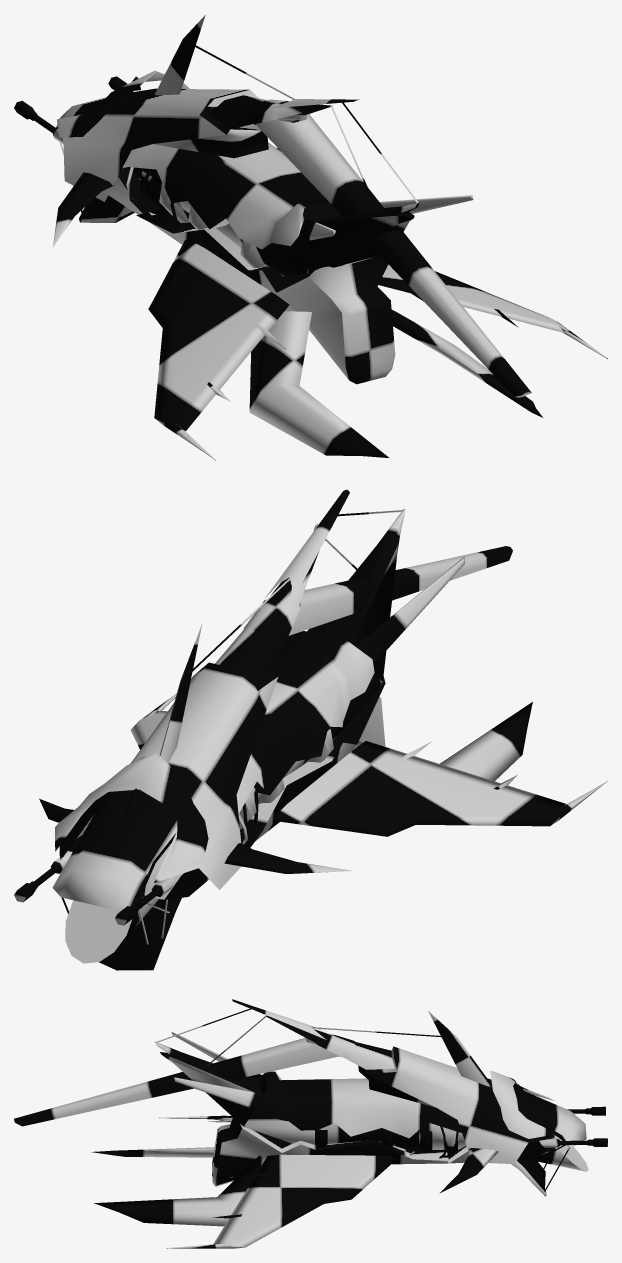
The model's file is interceptor.obj.
3 renders of one model, top to bottom at view 1: azimuth 30°, elevation 25°; view 2: azimuth 150°, elevation 25°; view 3: azimuth 270°, elevation 25°, orthographic. The views are drawn at different scales.
Parts seen in each view (by area): view 1: interceptor; view 2: interceptor; view 3: interceptor.
Part boxes in pixels (box(x1,y1,x2,y2)): interceptor: box(14, 15, 607, 460); interceptor: box(14, 489, 607, 970); interceptor: box(14, 999, 607, 1248).
Size of the model in its own units: 5.51 by 3.82 by 10.53.
Materials: 1 (1 with a texture image).
